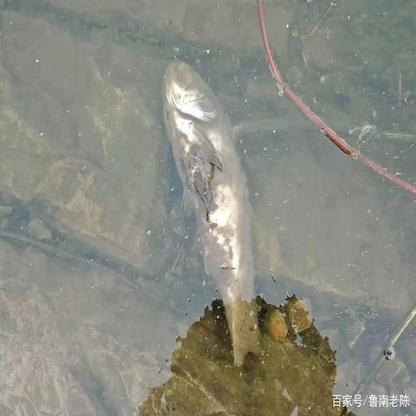deceased fish: (163, 51, 278, 368)
